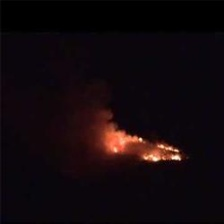fire: (92, 110, 187, 167)
